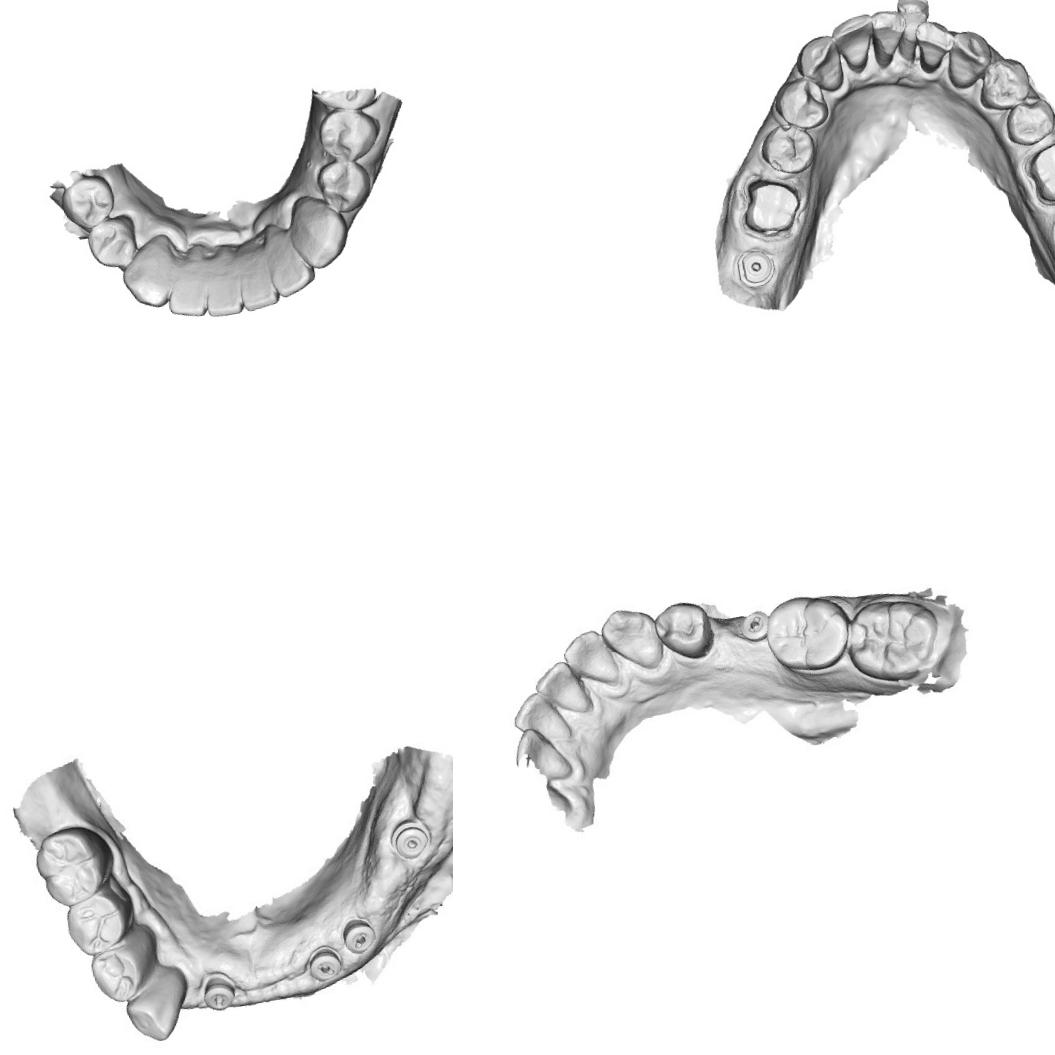canine: (283, 189, 353, 275), (594, 600, 666, 677), (116, 973, 188, 1048), (114, 238, 179, 318), (790, 31, 848, 98), (940, 25, 997, 91)
crown: (738, 173, 804, 240), (1024, 133, 1055, 210)
implant: (732, 246, 778, 290), (386, 816, 432, 860)
implant_minus: (306, 942, 350, 988), (197, 970, 240, 1017), (734, 607, 773, 645), (339, 916, 375, 954)
incisor: (505, 684, 576, 752), (557, 625, 620, 694), (531, 654, 594, 723), (262, 223, 318, 299), (831, 11, 880, 75), (196, 262, 246, 322), (234, 252, 280, 314), (160, 264, 209, 322), (867, 5, 910, 60), (912, 16, 957, 68), (893, 0, 936, 46)
molar: (838, 590, 946, 689), (757, 586, 854, 679), (27, 820, 118, 910)
premolar: (59, 888, 138, 960), (649, 593, 718, 668), (312, 100, 386, 166), (84, 939, 153, 1006), (769, 72, 832, 136), (310, 156, 375, 218), (756, 119, 822, 179), (57, 170, 120, 232), (972, 54, 1036, 115), (81, 213, 142, 272), (999, 90, 1055, 150)
